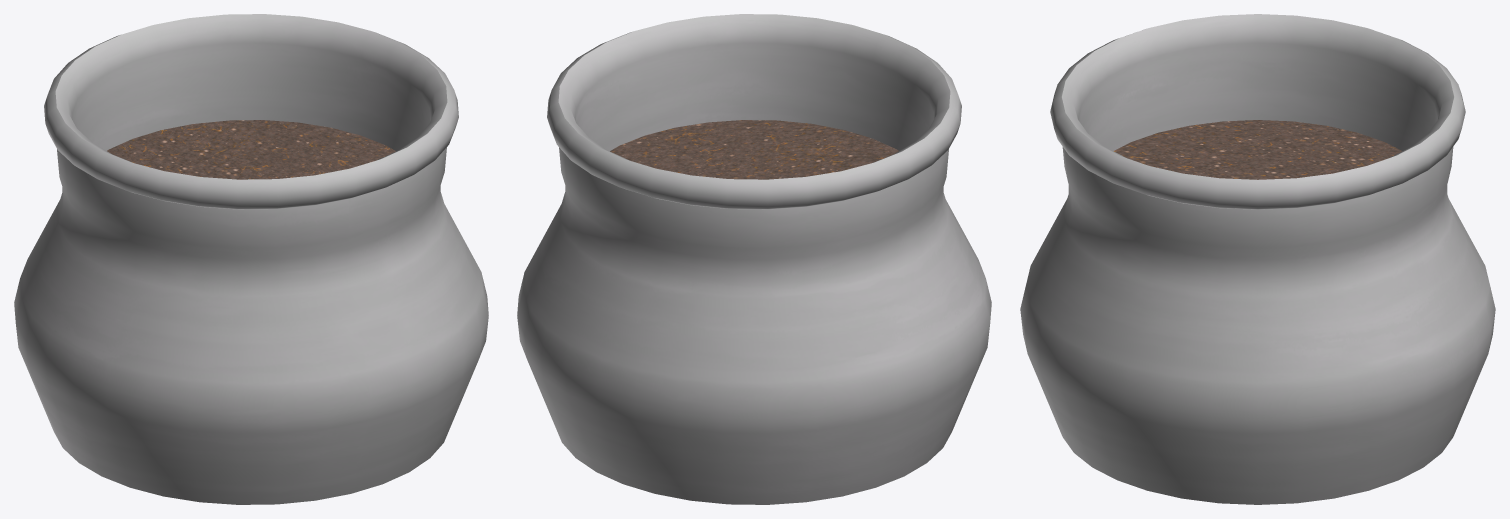
Rendered from Pot1.fbx.
3 renders of one model, left to right at view 1: azimuth 30°, elevation 25°; view 2: azimuth 150°, elevation 25°; view 3: azimuth 270°, elevation 25°, orthographic.
Parts seen in each view (by area): view 1: Pot1; view 2: Pot1; view 3: Pot1.
Boxes of the visible parts, left/top/right/bottom form: Pot1: left=14, top=14, right=488, bottom=504; Pot1: left=517, top=14, right=991, bottom=504; Pot1: left=1020, top=14, right=1495, bottom=504.
Bounding box in the file's own units: 19.96 × 15 × 19.96.
